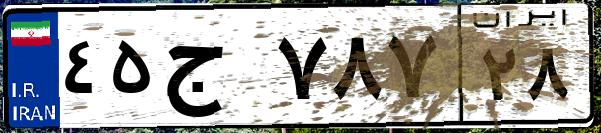2: (475, 38, 525, 113)
4: (57, 26, 110, 100)
5: (110, 28, 158, 98)
7: (270, 28, 330, 110), (385, 28, 445, 110)
8: (330, 28, 385, 110), (525, 38, 570, 115)
ج: (158, 20, 270, 120)
